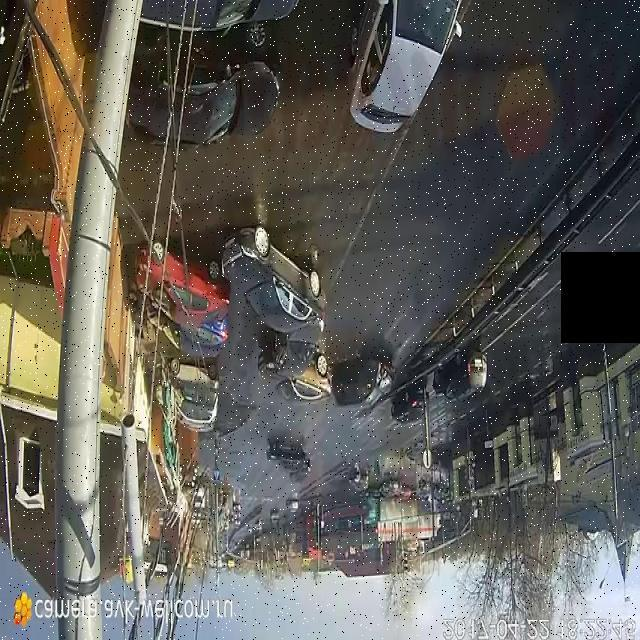moderate: (218, 218, 338, 418)
